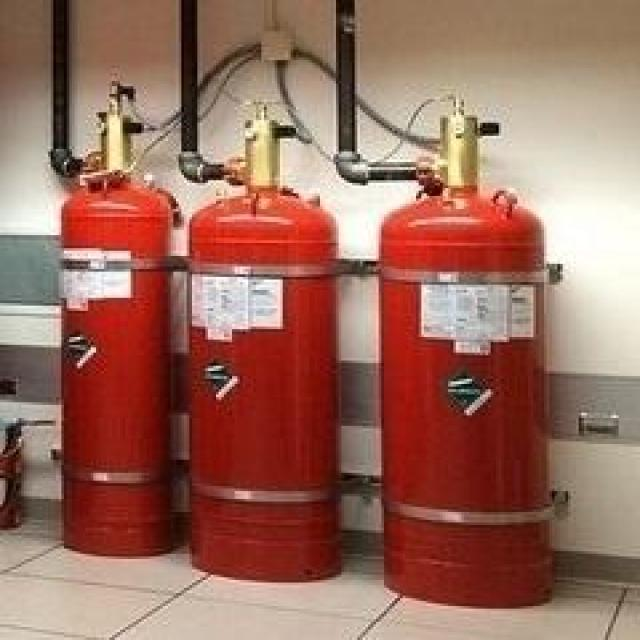fire_extinguisher: (371, 92, 560, 612), (180, 94, 340, 585), (47, 74, 180, 560)
